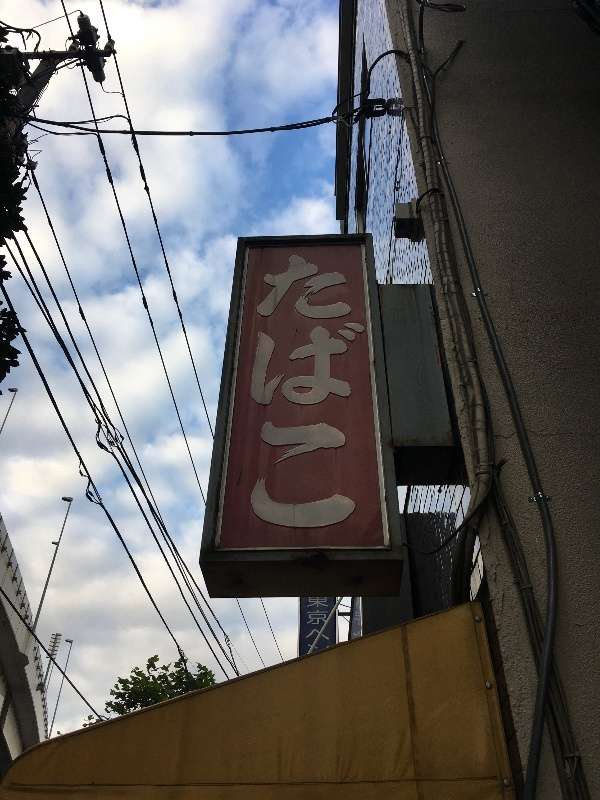text: (273, 256, 288, 531), (289, 256, 304, 531), (305, 256, 320, 531), (321, 256, 336, 531), (337, 256, 352, 531), (258, 256, 272, 531), (353, 256, 365, 531), (308, 599, 320, 646), (321, 599, 329, 646), (307, 626, 320, 640), (321, 626, 330, 640), (308, 645, 320, 654), (321, 645, 330, 654)
